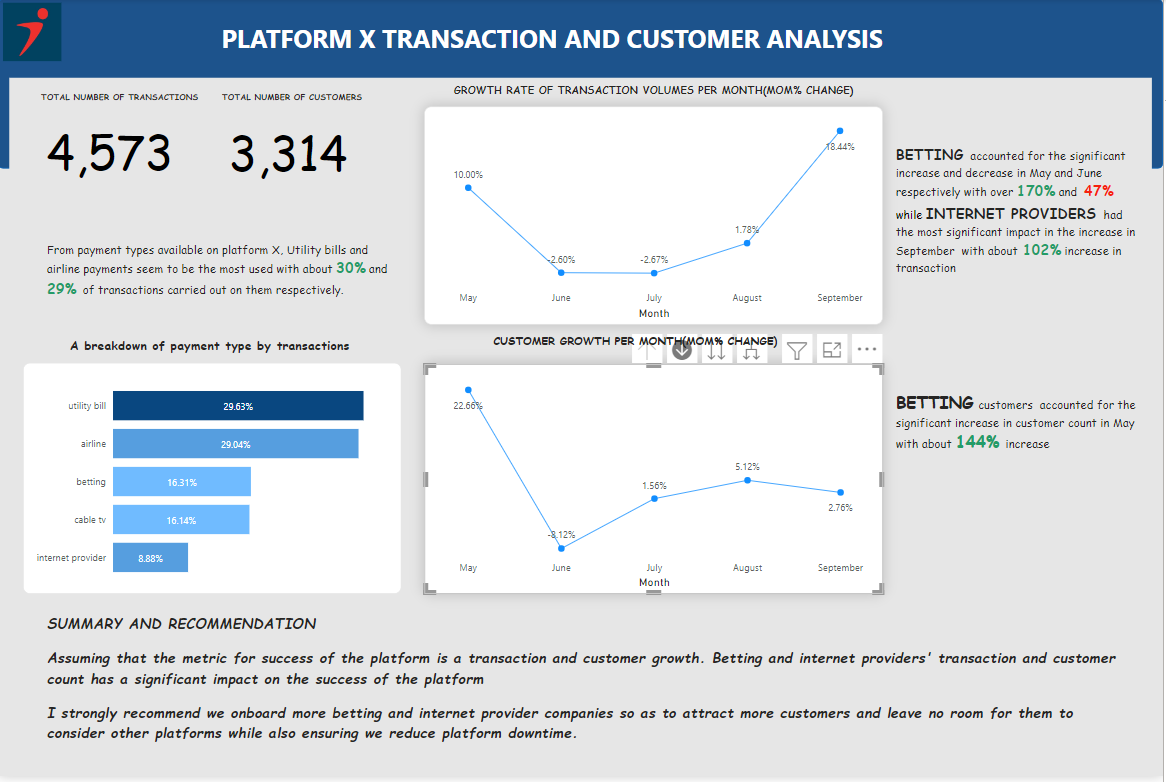

The page's visual inventory and layout, read from the dashboard file:
{"tool":"powerbi","page":{"name":"CUSTOMER TRANSACTION ANALYSIS","canvas":[1500,1000],"ordinal":0},"visuals":[{"type":"shape","box":[0,0,1500,218.2],"z":0},{"type":"shape","box":[15,100.9,1471.4,684.5],"z":1000},{"type":"image","box":[1.1,0,84.8,84.8],"z":2000},{"type":"textbox","box":[156.1,6.4,1123.4,78.9],"z":3000},{"type":"card","fields":{"Values":["payment_table.TRX COUNT"]},"box":[29.2,138.9,227.8,108.3],"z":4000},{"type":"textbox","box":[37.2,111.6,239.4,29.8],"z":5000},{"type":"lineChart","fields":{"Category":["payment_table.paymentdate.Variation.Date Hierarchy.Month","service_provider_table.payment_type"],"Y":["payment_table.Count of Id MoM%"]},"box":[548.2,137.7,590.5,280.9],"z":6000},{"type":"textbox","box":[560.5,102.3,568.6,35.5],"z":7000},{"type":"lineChart","fields":{"Category":["payment_table.paymentdate.Variation.Date Hierarchy.Month","service_provider_table.payment_type"],"Y":["payment_table.Count of customer_id MoM%"]},"box":[548.8,470,590.7,296.1],"z":8000},{"type":"textbox","box":[570.5,425.5,501.8,38.2],"z":9000},{"type":"clusteredBarChart","fields":{"Category":["service_provider_table.payment_type","service_provider_table.service provider_name"],"Y":["CountNonNull(payment_table.Id)"]},"box":[32.7,467.7,486.8,297.3],"z":10000},{"type":"textbox","box":[58.3,429.2,429.2,38.9],"z":11000},{"type":"card","fields":{"Values":["payment_table.Customer count"]},"box":[270.8,140.3,204.2,108.3],"z":12000},{"type":"textbox","box":[268.1,111.3,219.5,30],"z":13000},{"type":"textbox","box":[1150.9,181.4,320.5,204.5],"z":14000},{"type":"textbox","box":[58.3,306.9,452.8,118.1],"z":15000},{"type":"textbox","box":[1150.8,500.5,321.9,159.3],"z":16000},{"type":"textbox","box":[57.9,785.4,1400.2,202.8],"z":17000}]}

Visuals, with their boxes in screenshot pixels (x1, y1, x2, y2), scaled from the page's 1500x1000 canvas onto the 1166x782 screenshot:
shape: [left=0, top=0, right=1165, bottom=171]
shape: [left=12, top=79, right=1155, bottom=614]
image: [left=1, top=0, right=67, bottom=66]
textbox: [left=121, top=5, right=995, bottom=67]
card - payment_table.TRX COUNT: [left=23, top=109, right=200, bottom=193]
textbox: [left=29, top=87, right=215, bottom=111]
lineChart - payment_table.paymentdate.Variation.Date Hierarchy.Month x service_provider_table.payment_type: [left=426, top=108, right=885, bottom=327]
textbox: [left=436, top=80, right=878, bottom=108]
lineChart - payment_table.paymentdate.Variation.Date Hierarchy.Month x service_provider_table.payment_type: [left=427, top=368, right=886, bottom=599]
textbox: [left=443, top=333, right=834, bottom=363]
clusteredBarChart - service_provider_table.payment_type x service_provider_table.service provider_name: [left=25, top=366, right=404, bottom=598]
textbox: [left=45, top=336, right=379, bottom=366]
card - payment_table.Customer count: [left=211, top=110, right=369, bottom=194]
textbox: [left=208, top=87, right=379, bottom=110]
textbox: [left=895, top=142, right=1144, bottom=302]
textbox: [left=45, top=240, right=397, bottom=332]
textbox: [left=895, top=391, right=1145, bottom=516]
textbox: [left=45, top=614, right=1133, bottom=773]
